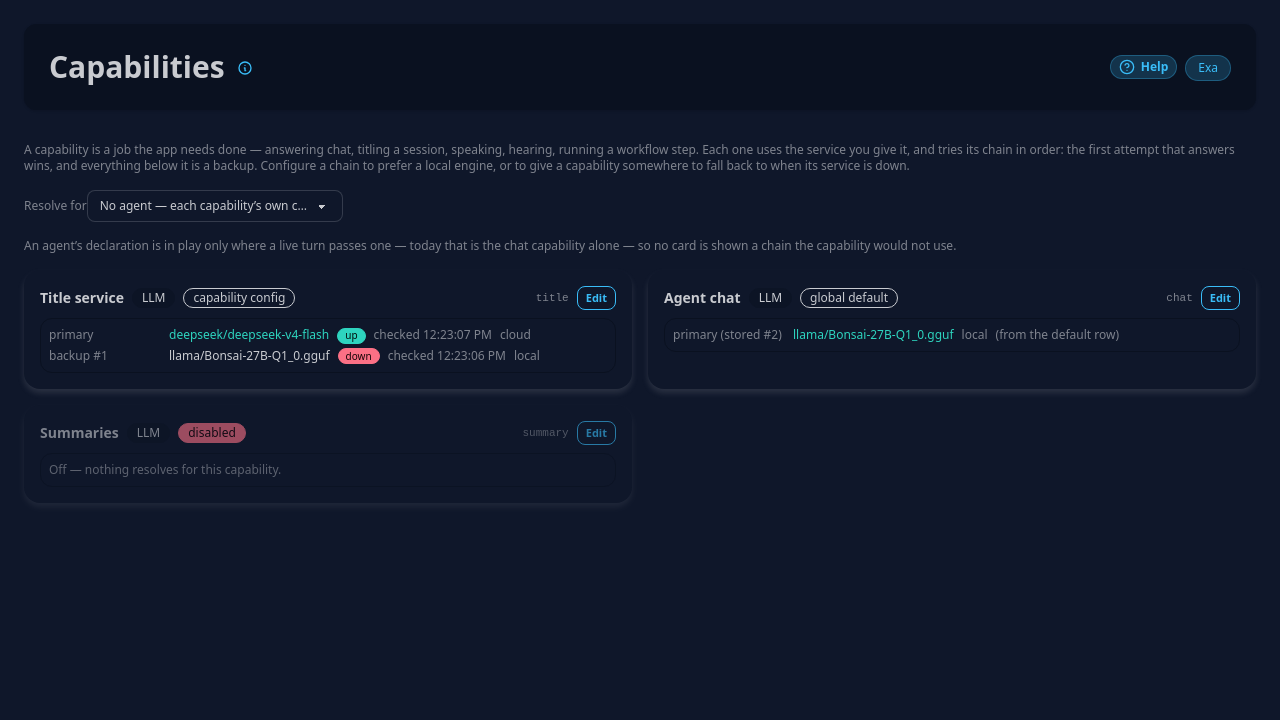
Test: ProviderCapabilities (the editor) › keeps an attempt’s model that the curated list does not carry, rather than dropping it
The width and height of the screenshot is (1280, 720).
Click the button "Edit" in the row of "capability config": (596, 298) [577,286,616,310]
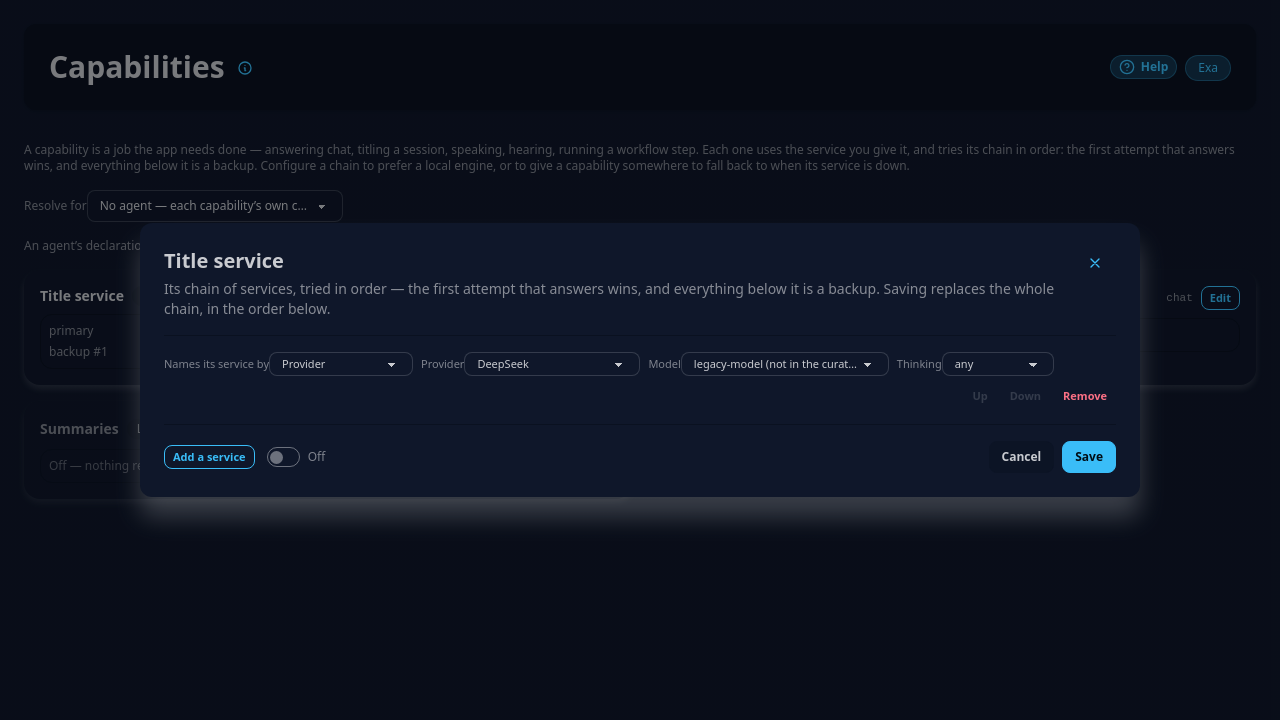
Expected: the dropdown named "Attempt 1: model" shows "legacy-model (not in the curated list)", [681,352,889,376]
